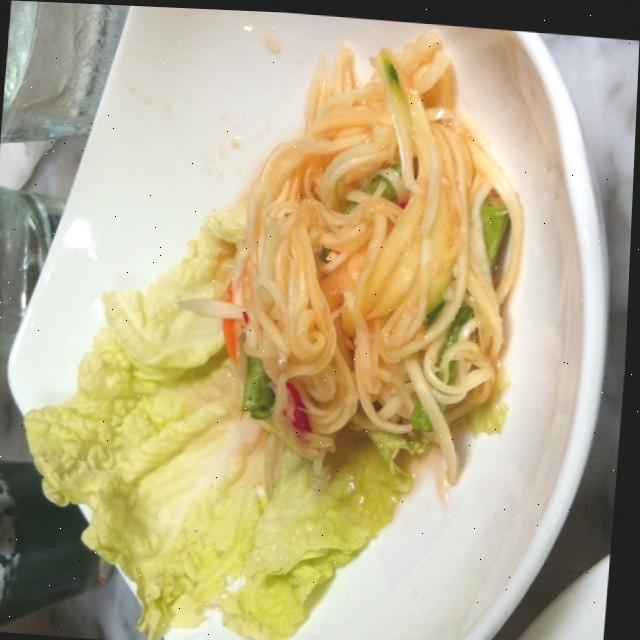蔬菜料理: (0, 1, 619, 640)
